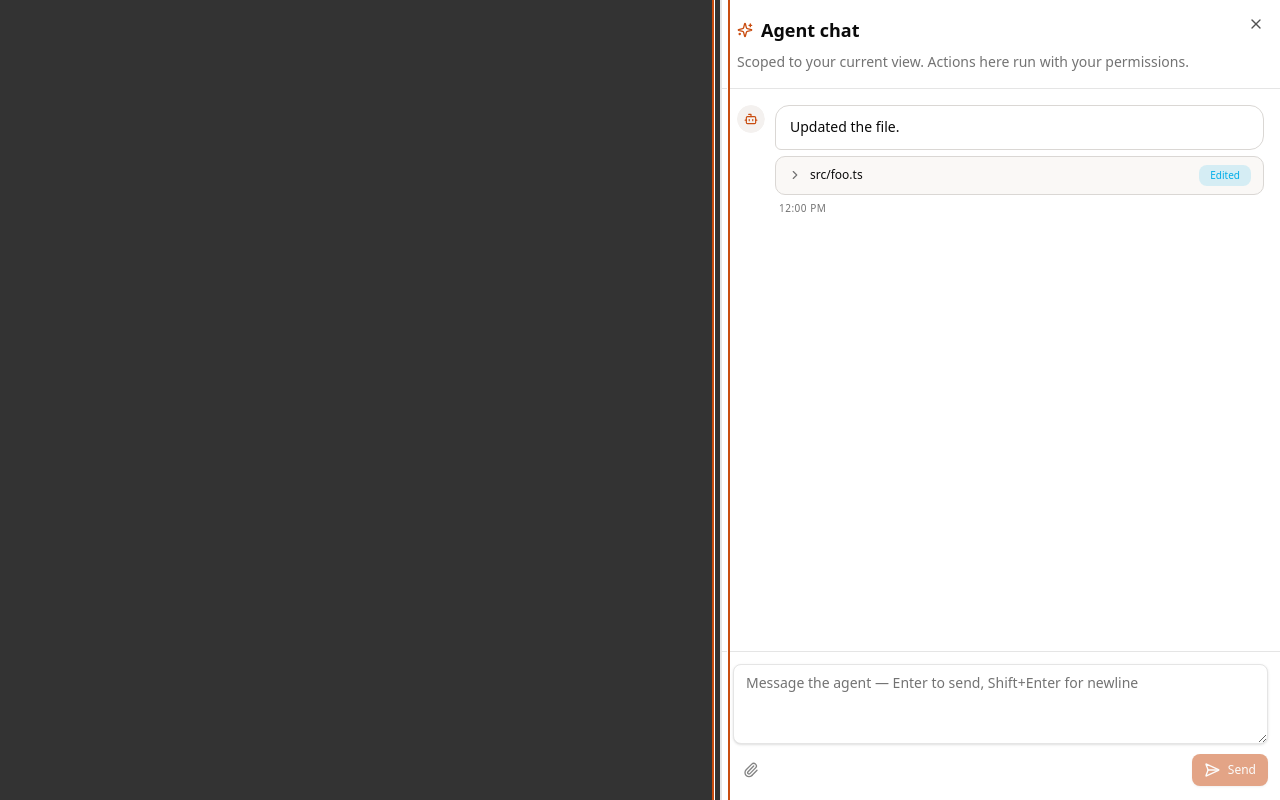
Scenario: AgentChatDrawer — code.diff rendering › unmounts the diff content again after collapsing (plain conditional render, no lazy-mount latch)
The width and height of the screenshot is (1280, 800).
Click the button "src/foo.ts edited": point(836, 175) [776, 157, 1263, 194]
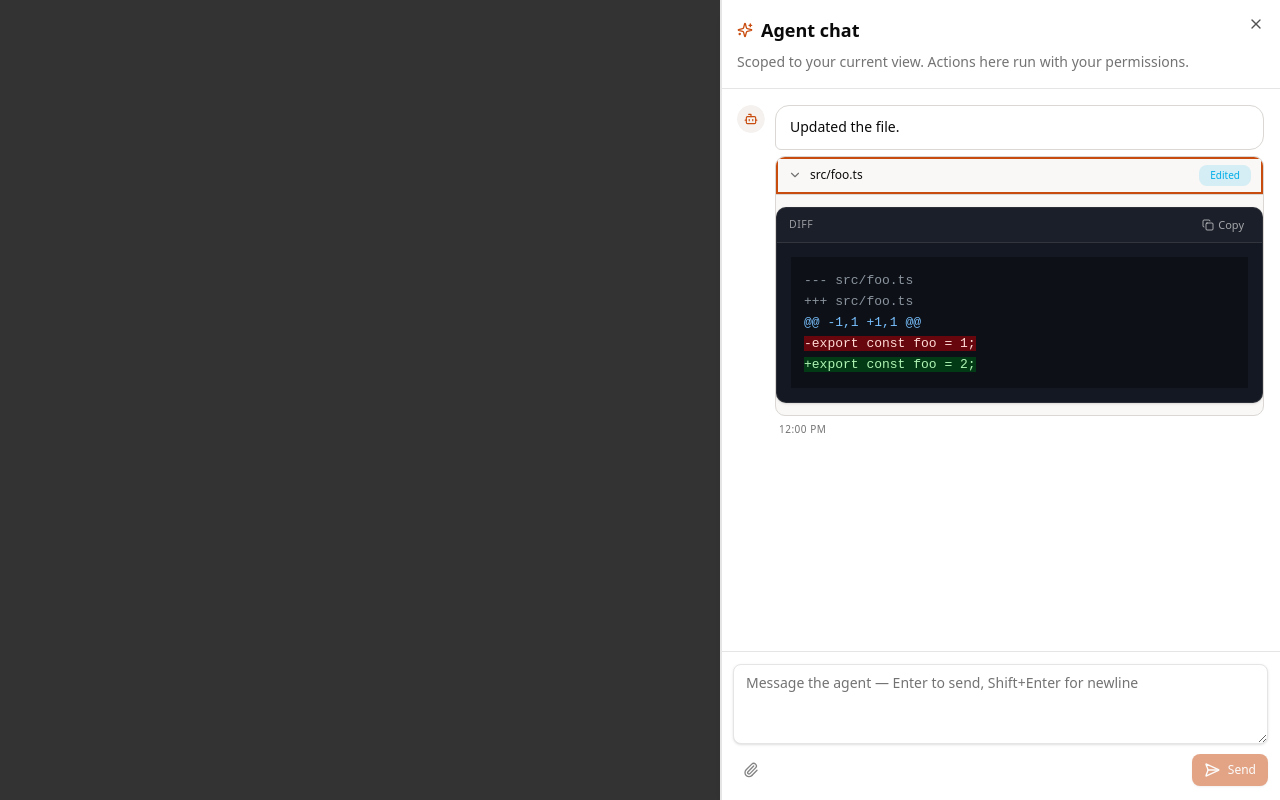
Result: the text "+export const foo = 2;" is shown at [804, 357, 976, 372]
Click the button "src/foo.ts edited": point(836, 175) [776, 157, 1263, 194]
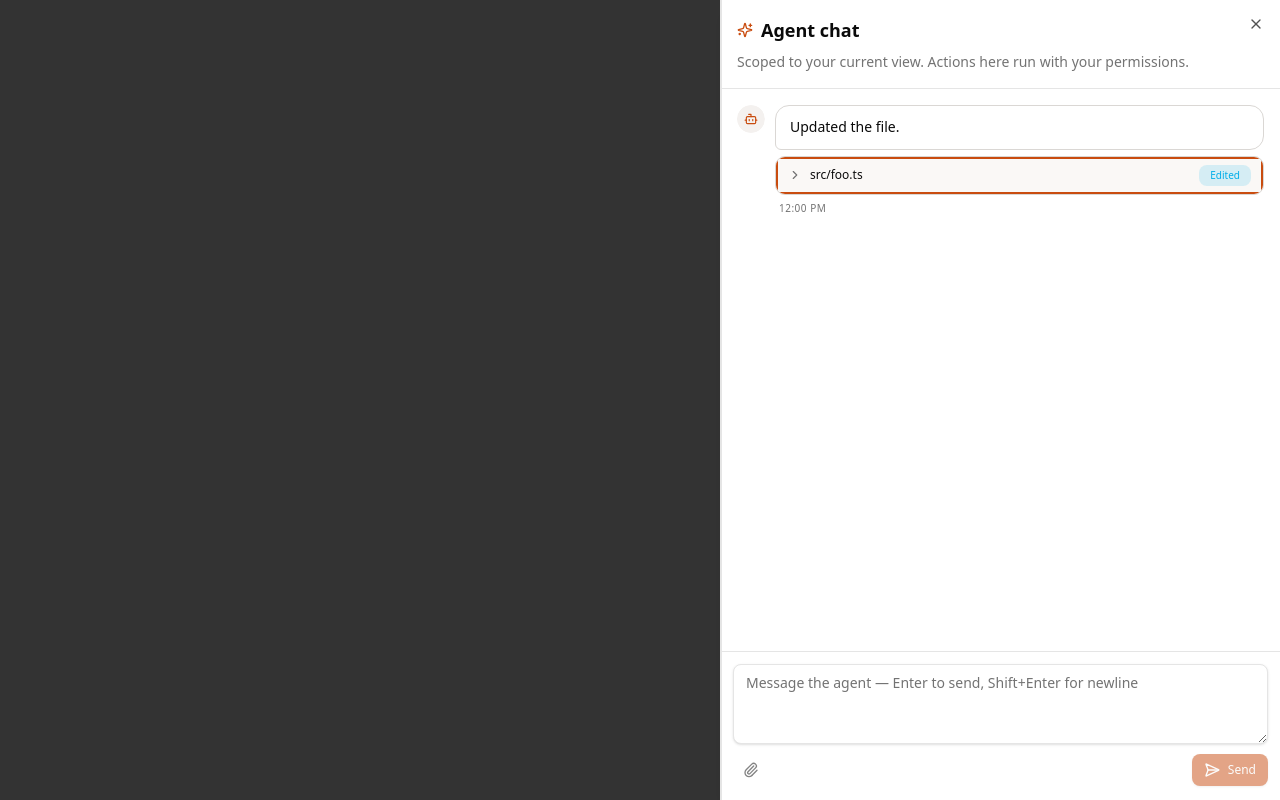
Result: the button "src/foo.ts edited" is collapsed at [776, 157, 1263, 194]
Result: the text "foo = 2" is gone
